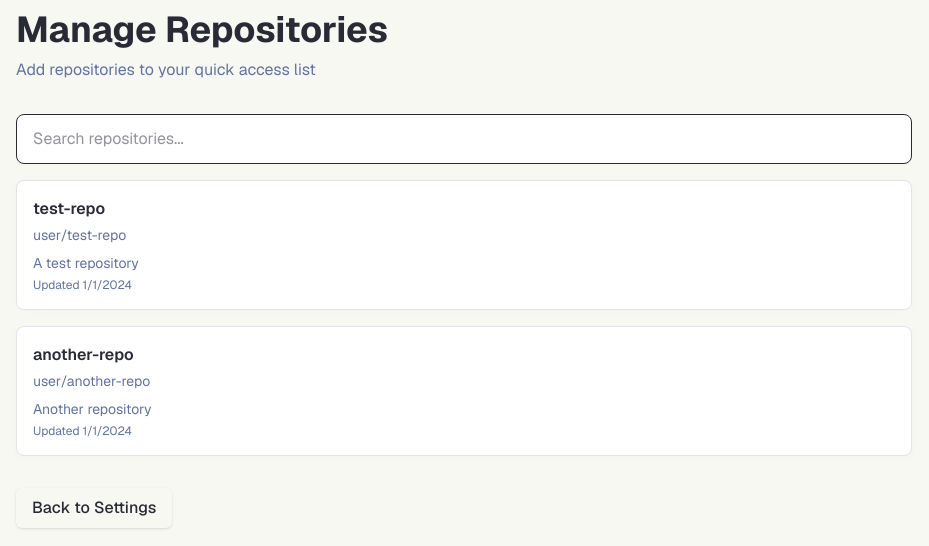
Test: GitHubRepositoriesPage › Repository Management › should filter repositories by search term
Type "test" into the field with placeholder "Search repositories..." at [464, 139], box 16,114 -> 912,164
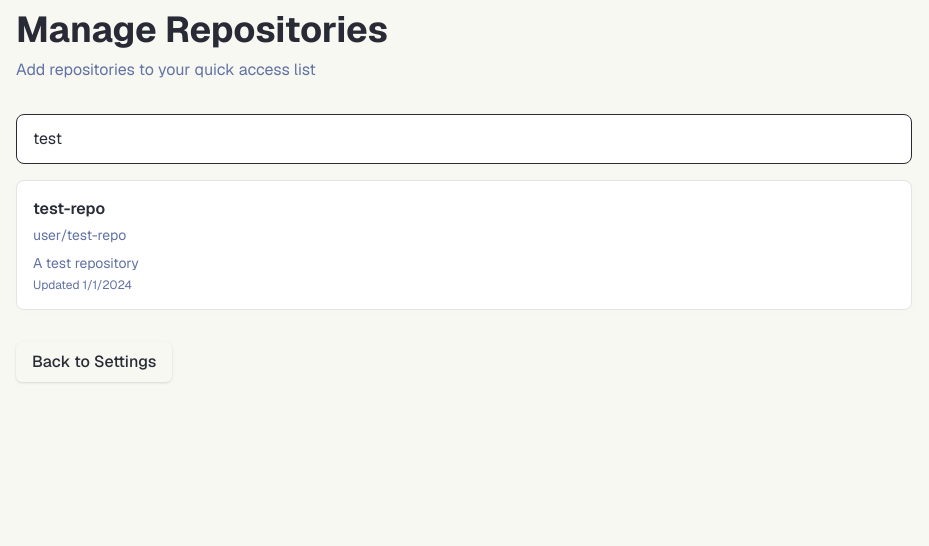
expect the heading "test-repo" is shown: met, box 33,197 -> 105,221
expect the heading "another-repo" is gone: met
